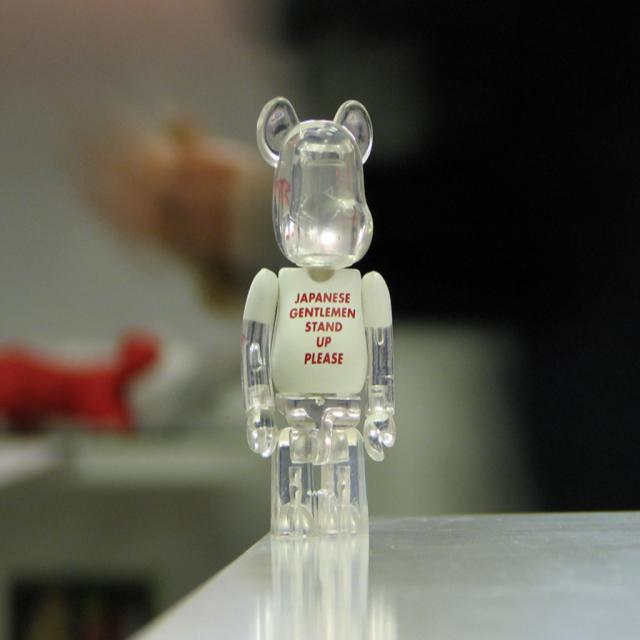Toy: (241, 93, 398, 536)
